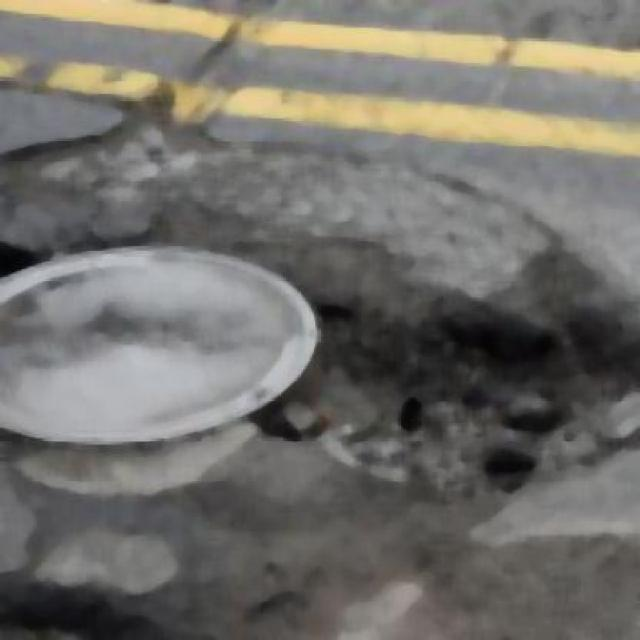Pothole: (322, 295, 638, 494)
